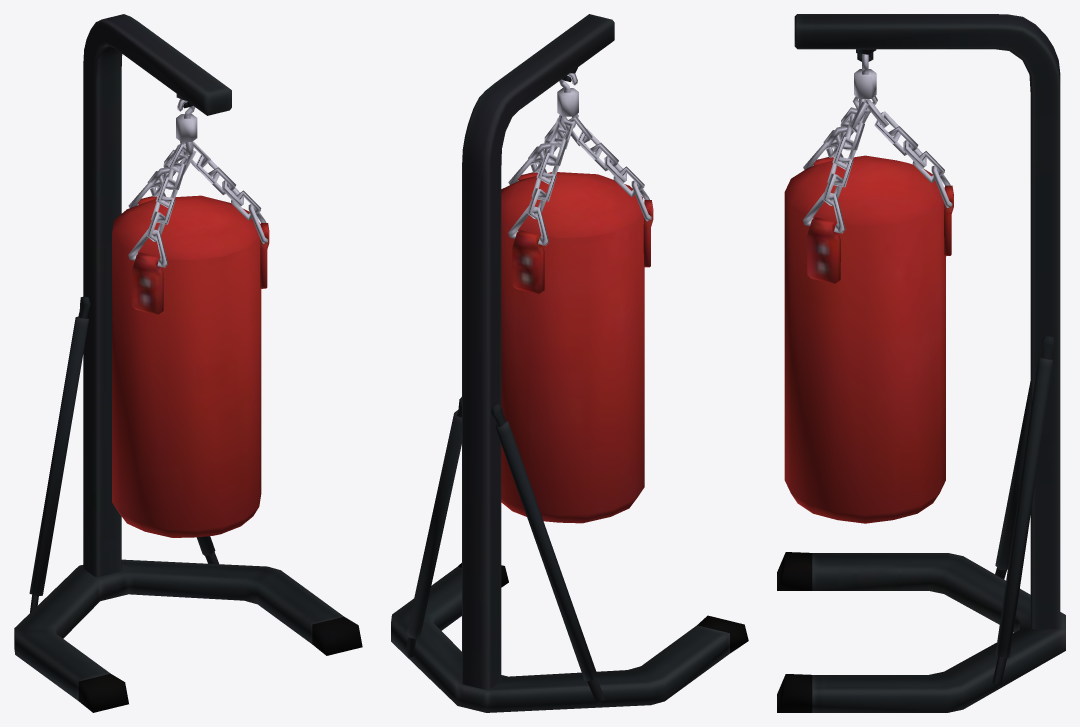
The picture shows the model from 3 angles, left to right: view 1: azimuth 30°, elevation 25°; view 2: azimuth 150°, elevation 25°; view 3: azimuth 270°, elevation 25°; orthographic projection. The views are drawn at different scales.
Bounding box in the file's own units: 9.41 × 19.45 × 8.16.
Materials: 1 (1 with a texture image).
